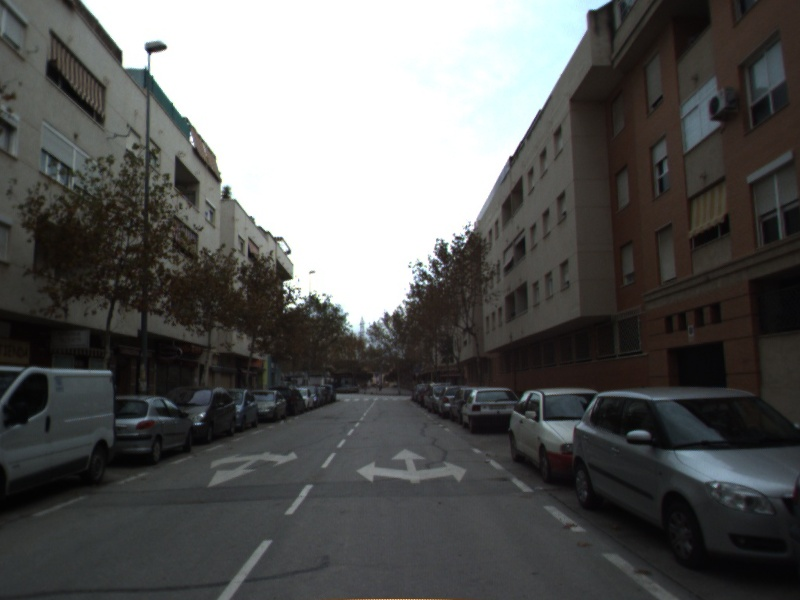STRAIGHT_LEFT_RIGHT: (354, 446, 470, 485)
